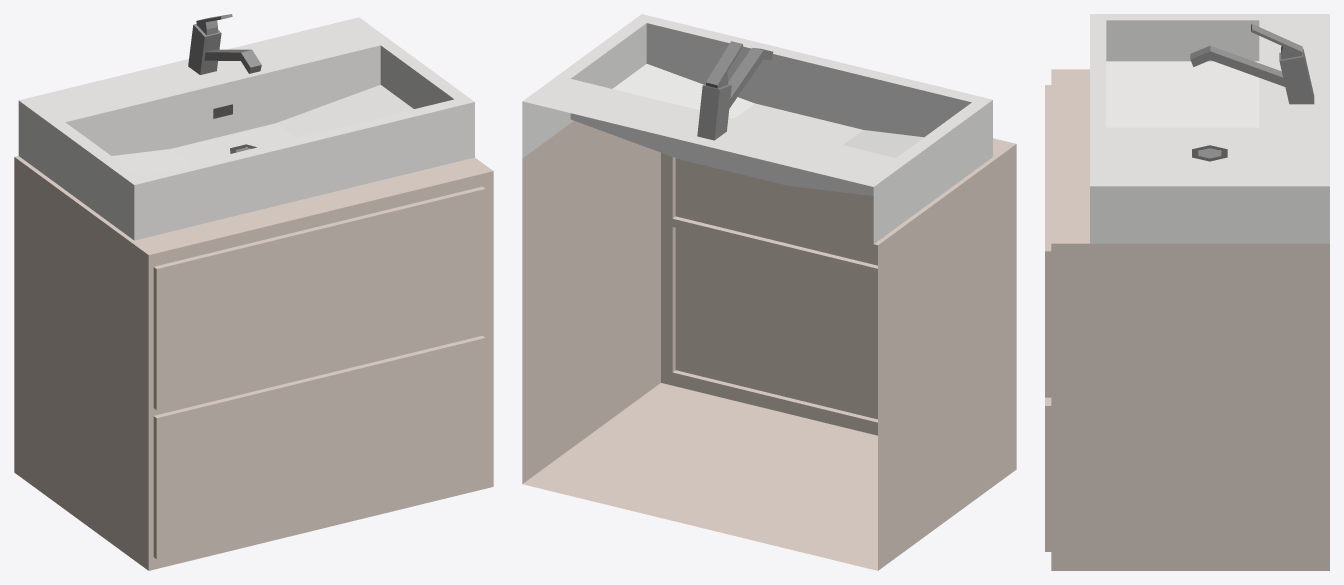
File: Washstand_5.fbx
The picture shows the model from 3 angles, left to right: view 1: azimuth 30°, elevation 25°; view 2: azimuth 150°, elevation 25°; view 3: azimuth 270°, elevation 25°; orthographic projection. The views are drawn at different scales.
Visible parts, largest first — view 1: Washstand_5; view 2: Washstand_5; view 3: Washstand_5.
Boxes of the visible parts, bbox=[...] form: Washstand_5: bbox=[14, 14, 493, 570]; Washstand_5: bbox=[522, 14, 1016, 570]; Washstand_5: bbox=[1045, 14, 1329, 570].
Bounding box in the file's own units: 138 × 95.54 × 170.
